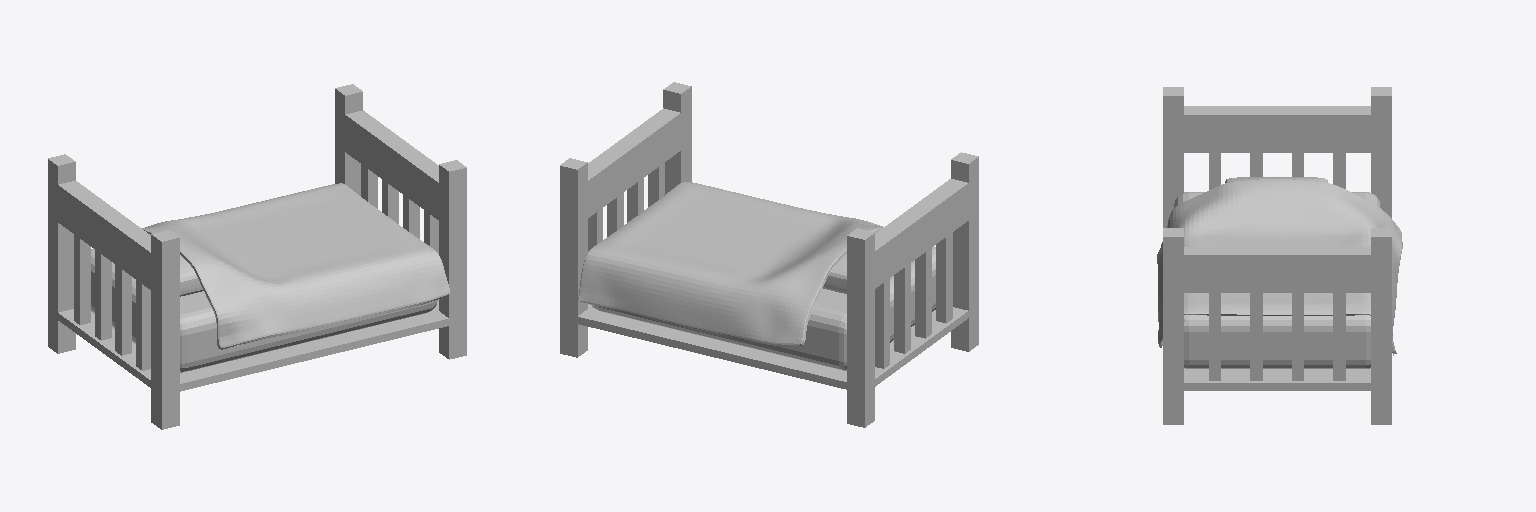
The model's file is beds.obj.
3 views of the same model, side by side, from view 1: azimuth 30°, elevation 25°; view 2: azimuth 150°, elevation 25°; view 3: azimuth 270°, elevation 25° (orthographic).
Visible parts, largest first — view 1: pCube99, pCube91, pCube98, pCube106, pCube96, pCube101, pCube90, pCube100, pCube95, pCube104, pCube102, pCube103 (+5 smaller); view 2: pCube99, pCube91, pCube101, pCube96, pCube100, pCube98, pCube95, pCube106, pCube90, pCube105, pCube104, pCube103 (+5 smaller); view 3: pCube99, pCube101, pCube96, pCube98, pCube95, pCube90, pCube91, pCube106, pCube100, pCube93, pCube97, pCube94 (+1 smaller).
Boxes of the visible parts, box(x1,y1,x2,y2) form: pCube99: box(142, 183, 449, 349); pCube91: box(48, 299, 466, 395); pCube98: box(91, 248, 437, 372); pCube106: box(151, 230, 179, 429); pCube96: box(340, 110, 443, 223); pCube101: box(57, 181, 155, 293); pCube90: box(439, 160, 466, 359); pCube100: box(48, 154, 75, 353); pCube95: box(335, 84, 362, 195); pCube104: box(115, 265, 131, 355); pCube102: box(74, 235, 90, 324); pCube103: box(95, 250, 111, 340); pCube99: box(578, 182, 883, 345); pCube91: box(560, 304, 978, 392); pCube101: box(870, 179, 973, 291); pCube96: box(583, 108, 685, 221); pCube100: box(847, 228, 874, 427); pCube98: box(592, 233, 935, 370); pCube95: box(560, 158, 587, 357); pCube106: box(951, 152, 978, 351); pCube90: box(663, 82, 691, 194); pCube105: box(936, 232, 952, 323); pCube104: box(915, 248, 931, 338); pCube103: box(894, 263, 910, 353); pCube99: box(1157, 179, 1402, 355); pCube101: box(1174, 106, 1380, 152); pCube96: box(1174, 247, 1380, 292); pCube98: box(1174, 192, 1380, 368); pCube95: box(1371, 228, 1391, 424); pCube90: box(1163, 228, 1183, 424); pCube91: box(1163, 368, 1390, 390); pCube106: box(1163, 87, 1183, 227); pCube100: box(1371, 87, 1391, 217); pCube93: box(1250, 293, 1262, 380); pCube97: box(1333, 293, 1345, 380); pCube94: box(1292, 293, 1303, 380).
Size of the model in its own units: 85 by 50 by 59.18.